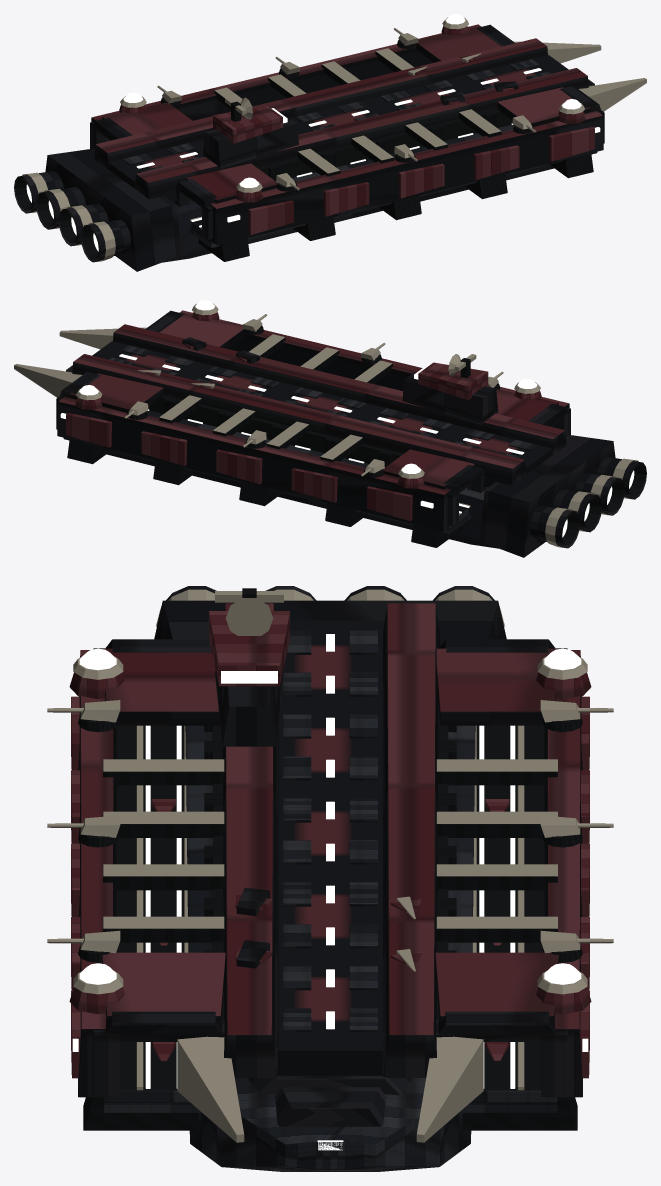
The model's file is carrier.glb.
The picture shows the model from 3 angles, top to bottom: view 1: azimuth 30°, elevation 25°; view 2: azimuth 150°, elevation 25°; view 3: azimuth 270°, elevation 25°; orthographic projection. The views are drawn at different scales.
Visible parts, largest first — view 1: hull_body, engine_block, sensor_island, shield_domes, weapon_turrets; view 2: hull_body, engine_block, sensor_island, shield_domes, weapon_turrets; view 3: hull_body, sensor_island, engine_block, shield_domes, weapon_turrets.
Part boxes in pixels (x1,y1,x2,y2): hull_body: (90,24,646,262); engine_block: (14,148,181,271); sensor_island: (203,97,298,168); shield_domes: (119,14,585,202); weapon_turrets: (157,28,536,191); hull_body: (14,310,570,548); engine_block: (479,434,646,557); sensor_island: (402,354,498,424); shield_domes: (75,300,541,488); weapon_turrets: (124,314,503,477); hull_body: (71,603,589,1171); sensor_island: (209,588,289,746); engine_block: (154,586,506,645); shield_domes: (69,648,591,1014); weapon_turrets: (47,700,613,962).
Bounding box in the file's own units: 55 × 12.34 × 23.8.
1 material, 1 textured.
